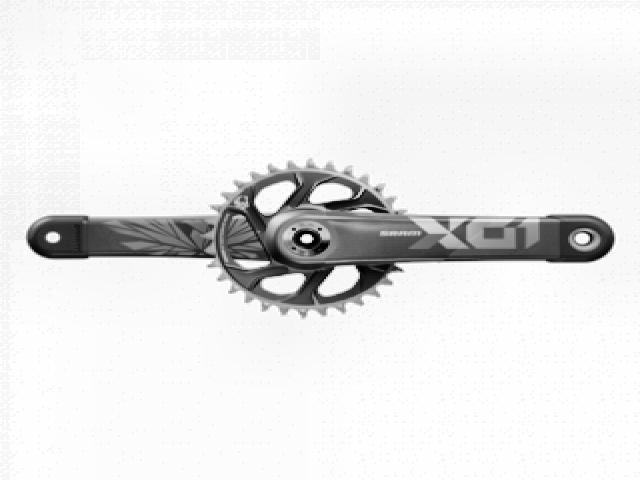cranks_set: (200, 158, 617, 316)
